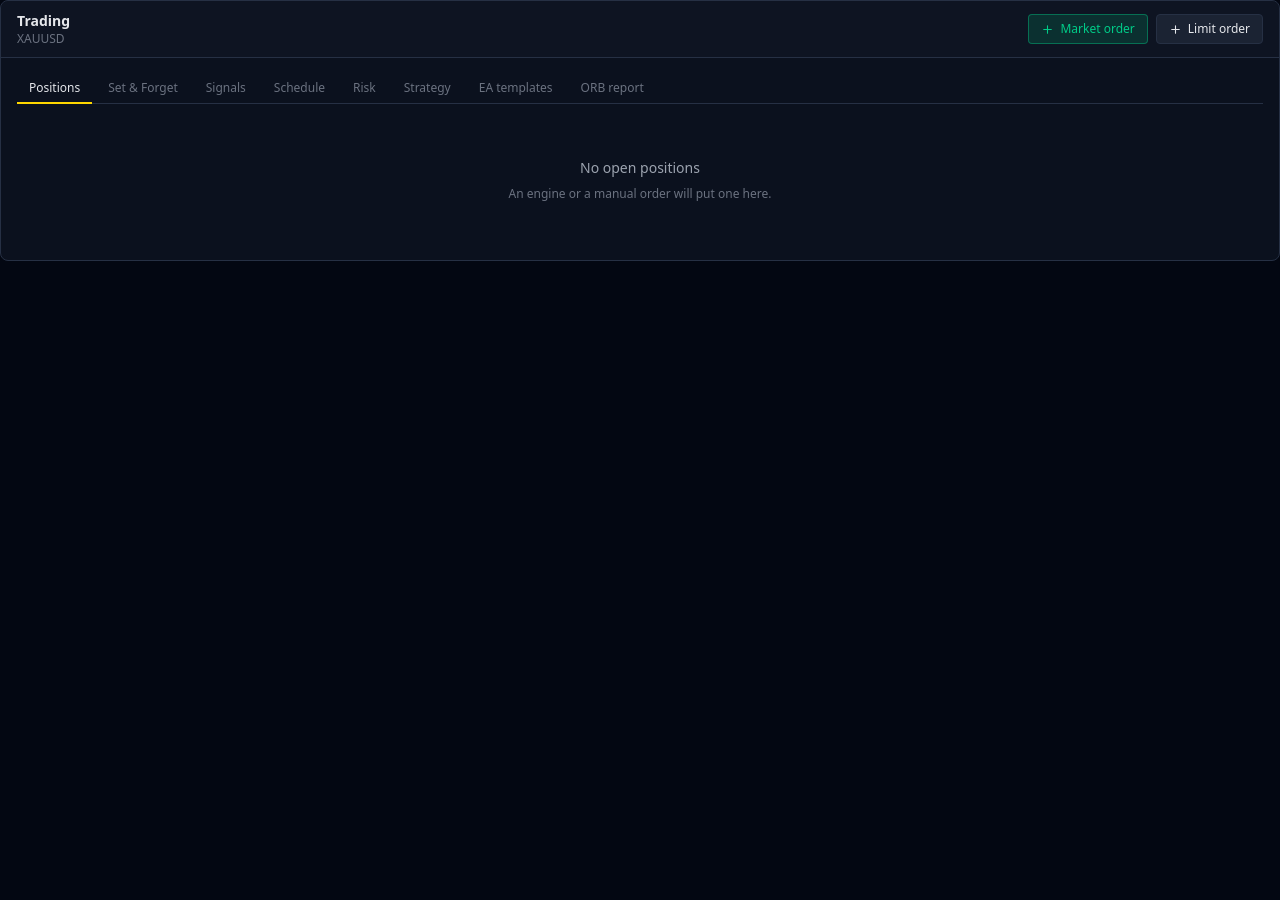
Test: the schedule › says entries are held once the day's target is reached
The image size is (1280, 900).
Click the tab "Schedule".
click(299, 89)  # box [262, 74, 337, 104]
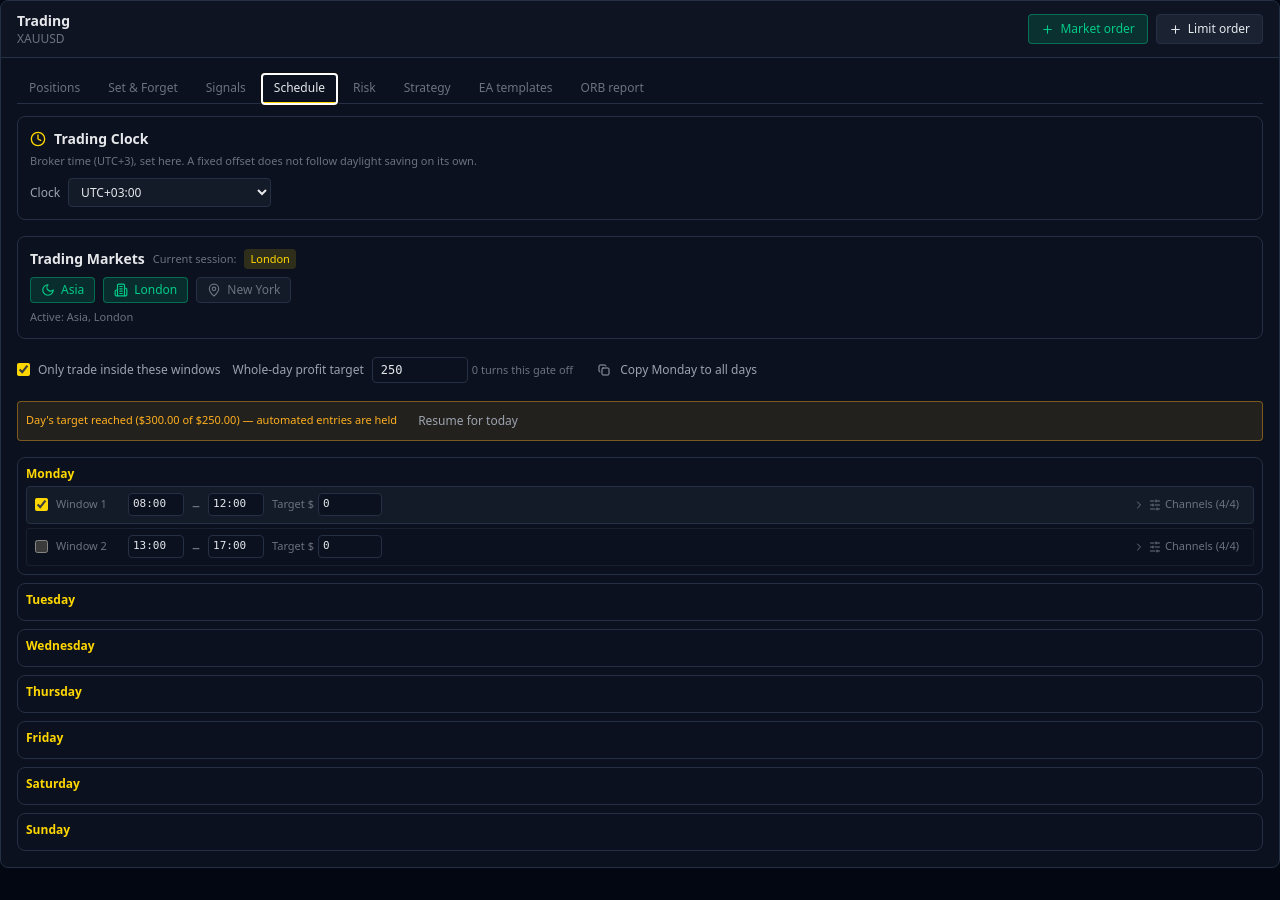
Expected: the element with test id "daily-target-reached" shows "$300.00", [139, 412, 180, 427]
Expected: the element with test id "daily-target-reached" shows "automated entries are held", [236, 412, 397, 427]
